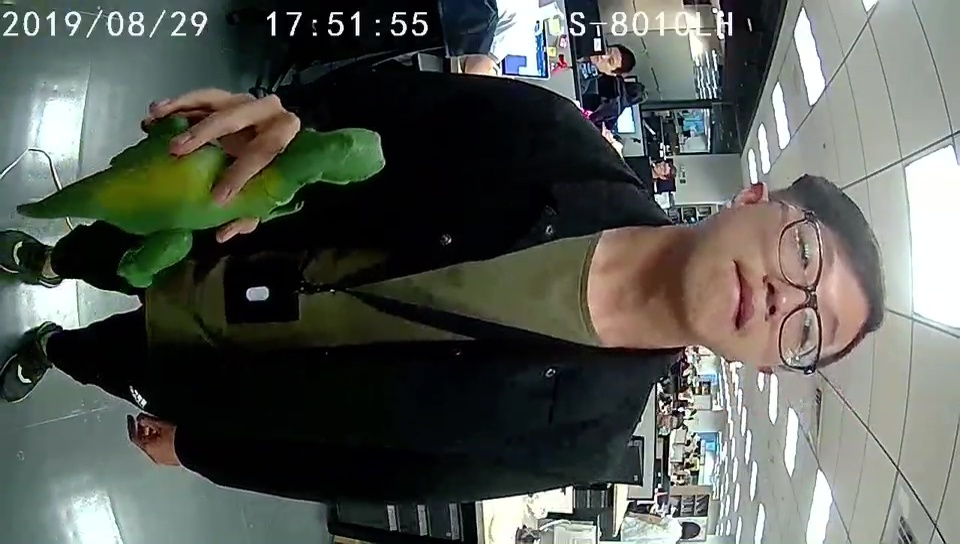rex: (96, 111, 386, 289)
